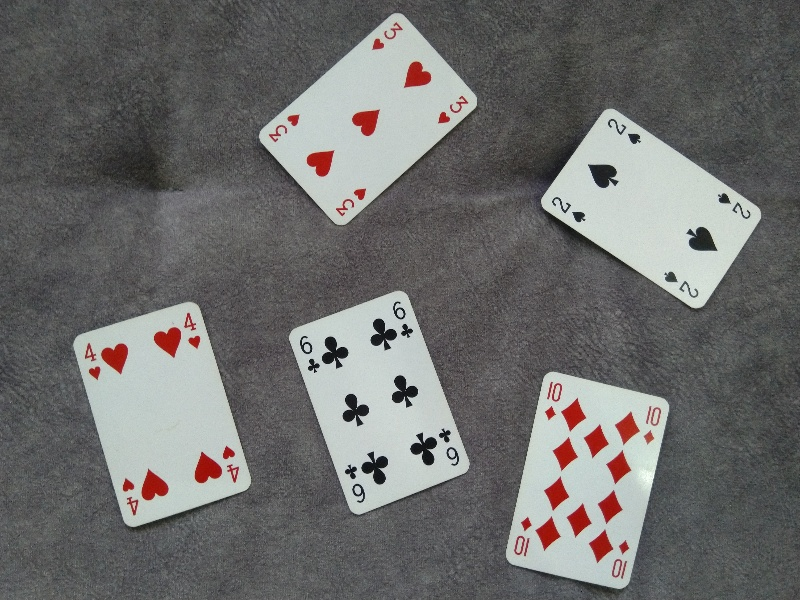2s: (659, 268, 701, 301), (549, 193, 589, 225), (717, 191, 754, 222), (605, 117, 643, 147)
3h: (333, 184, 370, 219), (370, 16, 404, 53), (266, 111, 304, 143), (435, 93, 470, 126)
4h: (119, 473, 141, 518), (181, 308, 203, 351), (80, 339, 102, 382), (222, 442, 241, 485)
6c: (436, 426, 464, 471), (342, 458, 368, 505), (296, 333, 323, 376), (391, 298, 415, 340)
Td: (513, 516, 535, 560), (543, 377, 564, 422), (641, 404, 664, 445), (610, 539, 631, 582)
